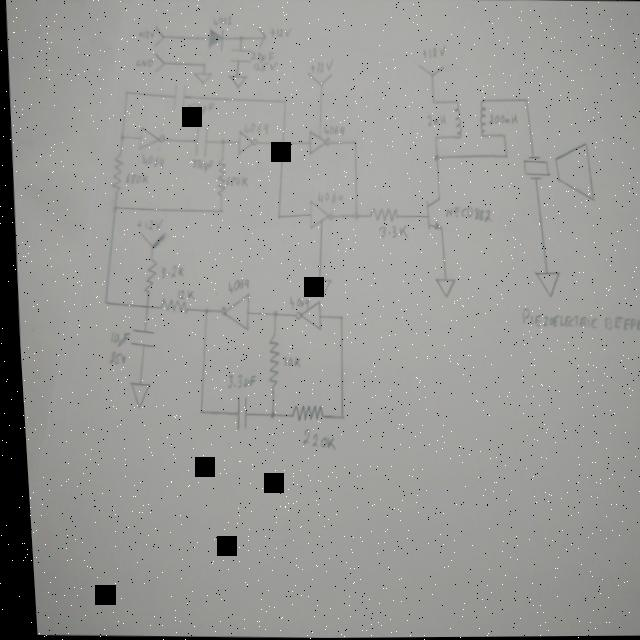capacitor: (124, 325, 151, 349), (227, 394, 244, 430), (190, 124, 208, 157), (168, 82, 187, 112), (227, 46, 250, 66)
crossover: (140, 302, 148, 310)
diode: (205, 26, 226, 52)
ground: (528, 268, 559, 300), (123, 380, 147, 410), (429, 275, 455, 300), (301, 276, 328, 298), (226, 74, 247, 90), (190, 71, 211, 85)
inductor: (449, 97, 462, 140), (475, 99, 488, 139)
junction: (275, 137, 286, 149), (262, 409, 272, 421), (430, 153, 439, 164), (216, 136, 225, 146), (115, 132, 124, 142), (349, 210, 357, 220), (108, 203, 116, 213), (198, 305, 206, 315), (266, 309, 274, 319), (236, 34, 246, 42), (191, 407, 199, 416), (333, 314, 342, 322), (333, 413, 341, 421), (498, 132, 505, 140), (280, 97, 287, 105), (215, 207, 222, 215), (430, 98, 436, 106), (273, 213, 279, 221), (350, 139, 356, 147), (123, 88, 129, 96), (98, 298, 103, 307), (501, 152, 507, 159), (430, 134, 436, 141), (522, 97, 528, 104), (200, 61, 205, 67)
resistor: (261, 332, 278, 389), (282, 403, 323, 423), (137, 256, 156, 294), (106, 151, 123, 193), (152, 296, 187, 315), (364, 206, 399, 223), (211, 154, 224, 198)
terminal: (135, 229, 163, 247), (416, 64, 444, 78), (305, 72, 332, 86), (151, 52, 165, 74), (255, 26, 267, 49), (153, 24, 164, 48)
text: (513, 304, 640, 335), (442, 203, 491, 226), (295, 427, 330, 452), (221, 371, 252, 390), (374, 224, 406, 242), (136, 152, 163, 171), (486, 112, 517, 128), (418, 44, 447, 61), (313, 190, 342, 206), (130, 218, 161, 232), (156, 264, 182, 280), (307, 59, 334, 74), (221, 278, 246, 294), (103, 329, 125, 347), (241, 121, 268, 135), (284, 295, 307, 311), (187, 158, 213, 172), (185, 101, 213, 114), (122, 171, 146, 186), (251, 61, 278, 74), (103, 348, 122, 366), (222, 175, 247, 188), (319, 125, 344, 137), (249, 51, 274, 63), (423, 114, 445, 127), (132, 56, 153, 69), (268, 26, 289, 39), (171, 288, 191, 301), (278, 355, 296, 369), (210, 14, 231, 26), (136, 29, 155, 39)
transistor: (420, 195, 442, 233)
